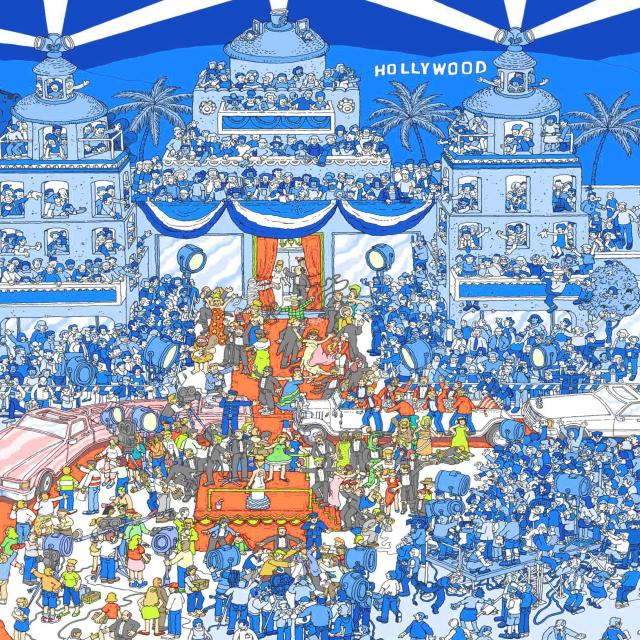waldo: (295, 256, 306, 268)
